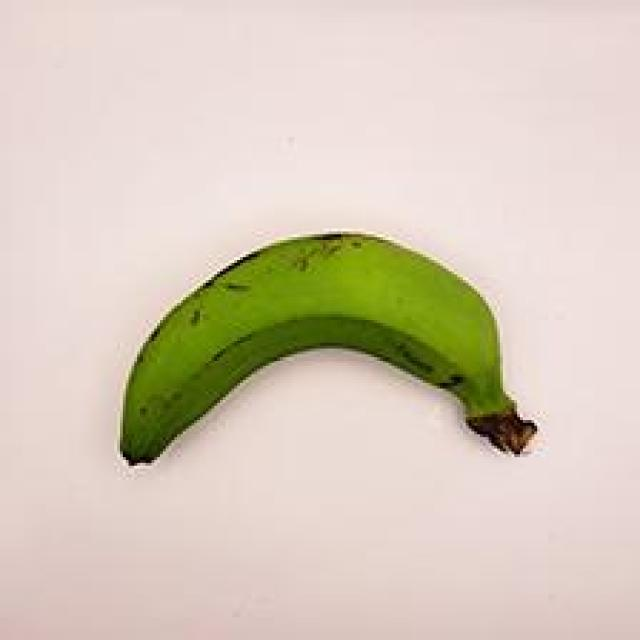Raw: (91, 208, 560, 526)
